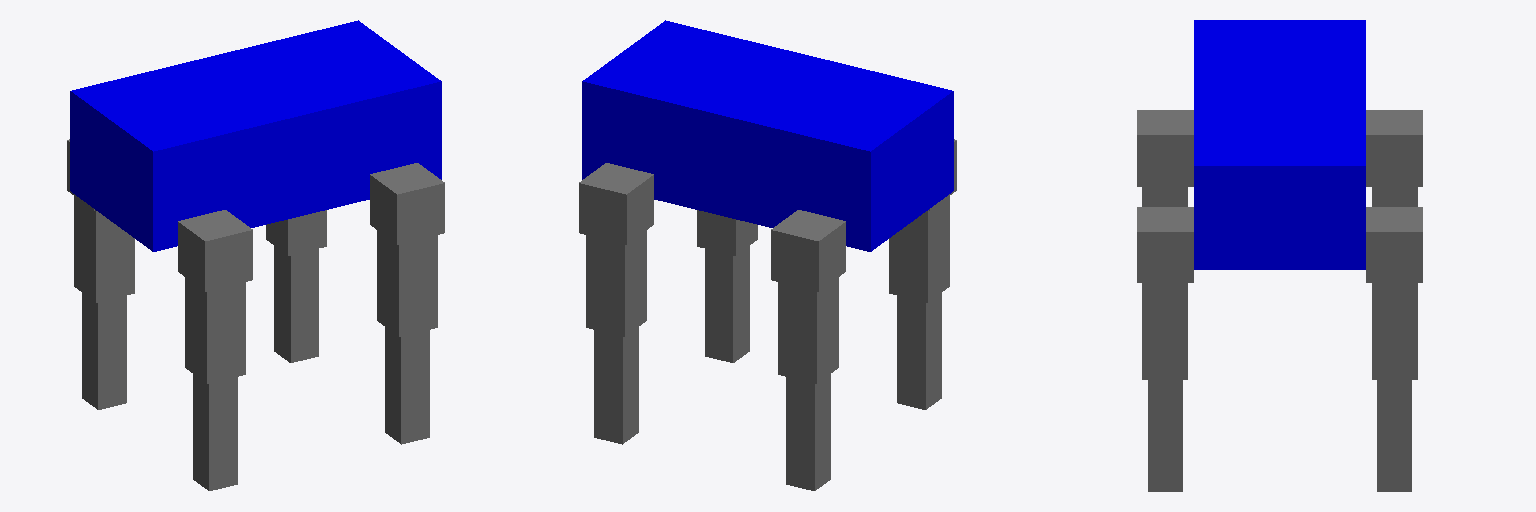
robot.urdf — quadbot:
<?xml version="1.0" ?>
<robot name="quadbot">
  
  <!-- ===== BASE BODY ===== -->
  <link name="base_link">
    <inertial>
      <mass value="2.0"/>
      <inertia ixx="0.01" ixy="0.0" ixz="0.0" iyy="0.01" iyz="0.0" izz="0.02"/>
    </inertial>
    <visual>
      <geometry>
        <box size="0.3 0.15 0.1"/>
      </geometry>
      <material name="blue">
        <color rgba="0 0 1 1"/>
      </material>
    </visual>
    <collision>
      <geometry>
        <box size="0.3 0.15 0.1"/>
      </geometry>
    </collision>
  </link>

  <!-- ===== FRONT LEFT LEG ===== -->
  
  <!-- Front Left Hip -->
  <link name="front_left_hip">
    <inertial>
      <mass value="0.1"/>
      <inertia ixx="0.0001" ixy="0.0" ixz="0.0" iyy="0.0001" iyz="0.0" izz="0.0001"/>
    </inertial>
    <visual>
      <geometry>
        <box size="0.05 0.05 0.05"/>
      </geometry>
      <material name="gray">
        <color rgba="0.5 0.5 0.5 1"/>
      </material>
    </visual>
    <collision>
      <geometry>
        <box size="0.05 0.05 0.05"/>
      </geometry>
    </collision>
  </link>

  <!-- Joint: Base to Front Left Hip (Hip Rotation) -->
  <joint name="front_left_hip_joint" type="revolute">
    <parent link="base_link"/>
    <child link="front_left_hip"/>
    <origin xyz="0.1 0.1 -0.05" rpy="0 0 0"/>
    <axis xyz="0 1 0"/>
    <limit lower="-1.57" upper="1.57" effort="10" velocity="5"/>
  </joint>

  <!-- Front Left Upper Leg -->
  <link name="front_left_upper_leg">
    <inertial>
      <mass value="0.2"/>
      <inertia ixx="0.0002" ixy="0.0" ixz="0.0" iyy="0.001" iyz="0.0" izz="0.0008"/>
    </inertial>
    <visual>
      <geometry>
        <box size="0.04 0.04 0.1"/>
      </geometry>
      <material name="gray">
        <color rgba="0.5 0.5 0.5 1"/>
      </material>
    </visual>
    <collision>
      <geometry>
        <box size="0.04 0.04 0.1"/>
      </geometry>
    </collision>
  </link>

  <!-- Joint: Hip to Upper Leg (Knee Rotation) -->
  <joint name="front_left_knee_joint" type="revolute">
    <parent link="front_left_hip"/>
    <child link="front_left_upper_leg"/>
    <origin xyz="0 0 -0.07" rpy="0 0 0"/>
    <axis xyz="1 0 0"/>
    <limit lower="-1.57" upper="1.57" effort="10" velocity="5"/>
  </joint>

  <!-- Front Left Lower Leg -->
  <link name="front_left_lower_leg">
    <inertial>
      <mass value="0.15"/>
      <inertia ixx="0.0001" ixy="0.0" ixz="0.0" iyy="0.0008" iyz="0.0" izz="0.0007"/>
    </inertial>
    <visual>
      <geometry>
        <box size="0.03 0.03 0.12"/>
      </geometry>
      <material name="gray">
        <color rgba="0.5 0.5 0.5 1"/>
      </material>
    </visual>
    <collision>
      <geometry>
        <box size="0.03 0.03 0.12"/>
      </geometry>
    </collision>
  </link>

  <!-- Joint: Upper Leg to Lower Leg (Ankle) -->
  <joint name="front_left_ankle_joint" type="revolute">
    <parent link="front_left_upper_leg"/>
    <child link="front_left_lower_leg"/>
    <origin xyz="0 0 -0.1" rpy="0 0 0"/>
    <axis xyz="1 0 0"/>
    <limit lower="-1.57" upper="1.57" effort="10" velocity="5"/>
  </joint>

  <!-- ===== FRONT RIGHT LEG ===== -->
  
  <link name="front_right_hip">
    <inertial>
      <mass value="0.1"/>
      <inertia ixx="0.0001" ixy="0.0" ixz="0.0" iyy="0.0001" iyz="0.0" izz="0.0001"/>
    </inertial>
    <visual>
      <geometry>
        <box size="0.05 0.05 0.05"/>
      </geometry>
      <material name="gray">
        <color rgba="0.5 0.5 0.5 1"/>
      </material>
    </visual>
    <collision>
      <geometry>
        <box size="0.05 0.05 0.05"/>
      </geometry>
    </collision>
  </link>

  <joint name="front_right_hip_joint" type="revolute">
    <parent link="base_link"/>
    <child link="front_right_hip"/>
    <origin xyz="0.1 -0.1 -0.05" rpy="0 0 0"/>
    <axis xyz="0 1 0"/>
    <limit lower="-1.57" upper="1.57" effort="10" velocity="5"/>
  </joint>

  <link name="front_right_upper_leg">
    <inertial>
      <mass value="0.2"/>
      <inertia ixx="0.0002" ixy="0.0" ixz="0.0" iyy="0.001" iyz="0.0" izz="0.0008"/>
    </inertial>
    <visual>
      <geometry>
        <box size="0.04 0.04 0.1"/>
      </geometry>
      <material name="gray">
        <color rgba="0.5 0.5 0.5 1"/>
      </material>
    </visual>
    <collision>
      <geometry>
        <box size="0.04 0.04 0.1"/>
      </geometry>
    </collision>
  </link>

  <joint name="front_right_knee_joint" type="revolute">
    <parent link="front_right_hip"/>
    <child link="front_right_upper_leg"/>
    <origin xyz="0 0 -0.07" rpy="0 0 0"/>
    <axis xyz="1 0 0"/>
    <limit lower="-1.57" upper="1.57" effort="10" velocity="5"/>
  </joint>

  <link name="front_right_lower_leg">
    <inertial>
      <mass value="0.15"/>
      <inertia ixx="0.0001" ixy="0.0" ixz="0.0" iyy="0.0008" iyz="0.0" izz="0.0007"/>
    </inertial>
    <visual>
      <geometry>
        <box size="0.03 0.03 0.12"/>
      </geometry>
      <material name="gray">
        <color rgba="0.5 0.5 0.5 1"/>
      </material>
    </visual>
    <collision>
      <geometry>
        <box size="0.03 0.03 0.12"/>
      </geometry>
    </collision>
  </link>

  <joint name="front_right_ankle_joint" type="revolute">
    <parent link="front_right_upper_leg"/>
    <child link="front_right_lower_leg"/>
    <origin xyz="0 0 -0.1" rpy="0 0 0"/>
    <axis xyz="1 0 0"/>
    <limit lower="-1.57" upper="1.57" effort="10" velocity="5"/>
  </joint>

  <!-- ===== REAR LEFT LEG ===== -->
  
  <link name="rear_left_hip">
    <inertial>
      <mass value="0.1"/>
      <inertia ixx="0.0001" ixy="0.0" ixz="0.0" iyy="0.0001" iyz="0.0" izz="0.0001"/>
    </inertial>
    <visual>
      <geometry>
        <box size="0.05 0.05 0.05"/>
      </geometry>
      <material name="gray">
        <color rgba="0.5 0.5 0.5 1"/>
      </material>
    </visual>
    <collision>
      <geometry>
        <box size="0.05 0.05 0.05"/>
      </geometry>
    </collision>
  </link>

  <joint name="rear_left_hip_joint" type="revolute">
    <parent link="base_link"/>
    <child link="rear_left_hip"/>
    <origin xyz="-0.1 0.1 -0.05" rpy="0 0 0"/>
    <axis xyz="0 1 0"/>
    <limit lower="-1.57" upper="1.57" effort="10" velocity="5"/>
  </joint>

  <link name="rear_left_upper_leg">
    <inertial>
      <mass value="0.2"/>
      <inertia ixx="0.0002" ixy="0.0" ixz="0.0" iyy="0.001" iyz="0.0" izz="0.0008"/>
    </inertial>
    <visual>
      <geometry>
        <box size="0.04 0.04 0.1"/>
      </geometry>
      <material name="gray">
        <color rgba="0.5 0.5 0.5 1"/>
      </material>
    </visual>
    <collision>
      <geometry>
        <box size="0.04 0.04 0.1"/>
      </geometry>
    </collision>
  </link>

  <joint name="rear_left_knee_joint" type="revolute">
    <parent link="rear_left_hip"/>
    <child link="rear_left_upper_leg"/>
    <origin xyz="0 0 -0.07" rpy="0 0 0"/>
    <axis xyz="1 0 0"/>
    <limit lower="-1.57" upper="1.57" effort="10" velocity="5"/>
  </joint>

  <link name="rear_left_lower_leg">
    <inertial>
      <mass value="0.15"/>
      <inertia ixx="0.0001" ixy="0.0" ixz="0.0" iyy="0.0008" iyz="0.0" izz="0.0007"/>
    </inertial>
    <visual>
      <geometry>
        <box size="0.03 0.03 0.12"/>
      </geometry>
      <material name="gray">
        <color rgba="0.5 0.5 0.5 1"/>
      </material>
    </visual>
    <collision>
      <geometry>
        <box size="0.03 0.03 0.12"/>
      </geometry>
    </collision>
  </link>

  <joint name="rear_left_ankle_joint" type="revolute">
    <parent link="rear_left_upper_leg"/>
    <child link="rear_left_lower_leg"/>
    <origin xyz="0 0 -0.1" rpy="0 0 0"/>
    <axis xyz="1 0 0"/>
    <limit lower="-1.57" upper="1.57" effort="10" velocity="5"/>
  </joint>

  <!-- ===== REAR RIGHT LEG ===== -->
  
  <link name="rear_right_hip">
    <inertial>
      <mass value="0.1"/>
      <inertia ixx="0.0001" ixy="0.0" ixz="0.0" iyy="0.0001" iyz="0.0" izz="0.0001"/>
    </inertial>
    <visual>
      <geometry>
        <box size="0.05 0.05 0.05"/>
      </geometry>
      <material name="gray">
        <color rgba="0.5 0.5 0.5 1"/>
      </material>
    </visual>
    <collision>
      <geometry>
        <box size="0.05 0.05 0.05"/>
      </geometry>
    </collision>
  </link>

  <joint name="rear_right_hip_joint" type="revolute">
    <parent link="base_link"/>
    <child link="rear_right_hip"/>
    <origin xyz="-0.1 -0.1 -0.05" rpy="0 0 0"/>
    <axis xyz="0 1 0"/>
    <limit lower="-1.57" upper="1.57" effort="10" velocity="5"/>
  </joint>

  <link name="rear_right_upper_leg">
    <inertial>
      <mass value="0.2"/>
      <inertia ixx="0.0002" ixy="0.0" ixz="0.0" iyy="0.001" iyz="0.0" izz="0.0008"/>
    </inertial>
    <visual>
      <geometry>
        <box size="0.04 0.04 0.1"/>
      </geometry>
      <material name="gray">
        <color rgba="0.5 0.5 0.5 1"/>
      </material>
    </visual>
    <collision>
      <geometry>
        <box size="0.04 0.04 0.1"/>
      </geometry>
    </collision>
  </link>

  <joint name="rear_right_knee_joint" type="revolute">
    <parent link="rear_right_hip"/>
    <child link="rear_right_upper_leg"/>
    <origin xyz="0 0 -0.07" rpy="0 0 0"/>
    <axis xyz="1 0 0"/>
    <limit lower="-1.57" upper="1.57" effort="10" velocity="5"/>
  </joint>

  <link name="rear_right_lower_leg">
    <inertial>
      <mass value="0.15"/>
      <inertia ixx="0.0001" ixy="0.0" ixz="0.0" iyy="0.0008" iyz="0.0" izz="0.0007"/>
    </inertial>
    <visual>
      <geometry>
        <box size="0.03 0.03 0.12"/>
      </geometry>
      <material name="gray">
        <color rgba="0.5 0.5 0.5 1"/>
      </material>
    </visual>
    <collision>
      <geometry>
        <box size="0.03 0.03 0.12"/>
      </geometry>
    </collision>
  </link>

  <joint name="rear_right_ankle_joint" type="revolute">
    <parent link="rear_right_upper_leg"/>
    <child link="rear_right_lower_leg"/>
    <origin xyz="0 0 -0.1" rpy="0 0 0"/>
    <axis xyz="1 0 0"/>
    <limit lower="-1.57" upper="1.57" effort="10" velocity="5"/>
  </joint>

</robot>

--- What the picture shows (computed from the rendered views, not written in the file) ---
Views: 3 orthographic renders of the robot side by side, from view 1: azimuth 30°, elevation 25°; view 2: azimuth 150°, elevation 25°; view 3: azimuth 270°, elevation 25°.
Robot: quadbot — 13 links, 12 joints (12 revolute); root link base_link; default pose: every joint at zero.
Links seen in each view (by area): view 1: base_link, rear_right_upper_leg, front_right_upper_leg, front_right_hip, rear_right_hip, rear_left_upper_leg, rear_right_lower_leg, front_left_lower_leg, rear_left_lower_leg, front_right_lower_leg, front_left_upper_leg; view 2: base_link, rear_left_upper_leg, front_left_upper_leg, front_left_hip, rear_left_hip, rear_right_upper_leg, rear_left_lower_leg, front_right_lower_leg, rear_right_lower_leg, front_left_lower_leg, front_right_upper_leg; view 3: base_link, front_left_upper_leg, front_right_upper_leg, rear_left_hip, rear_right_hip, front_left_hip, front_right_hip, front_left_lower_leg, front_right_lower_leg, rear_left_upper_leg, rear_right_upper_leg.
Boxes of the visible links, bbox=[...] form: base_link: bbox=[70, 20, 441, 251]; rear_right_upper_leg: bbox=[185, 277, 245, 383]; front_right_upper_leg: bbox=[377, 230, 437, 336]; front_right_hip: bbox=[370, 163, 444, 244]; rear_right_hip: bbox=[178, 210, 252, 291]; rear_left_upper_leg: bbox=[74, 196, 134, 302]; rear_right_lower_leg: bbox=[193, 374, 237, 490]; front_left_lower_leg: bbox=[274, 246, 318, 362]; rear_left_lower_leg: bbox=[82, 293, 126, 409]; front_right_lower_leg: bbox=[385, 327, 429, 444]; front_left_upper_leg: bbox=[266, 210, 326, 255]; base_link: bbox=[582, 20, 953, 251]; rear_left_upper_leg: bbox=[778, 277, 838, 383]; front_left_upper_leg: bbox=[586, 230, 646, 336]; front_left_hip: bbox=[579, 163, 653, 244]; rear_left_hip: bbox=[771, 210, 845, 291]; rear_right_upper_leg: bbox=[889, 196, 949, 302]; rear_left_lower_leg: bbox=[786, 374, 830, 490]; front_right_lower_leg: bbox=[705, 246, 749, 362]; rear_right_lower_leg: bbox=[897, 293, 941, 409]; front_left_lower_leg: bbox=[594, 327, 638, 444]; front_right_upper_leg: bbox=[697, 210, 757, 255]; base_link: bbox=[1194, 20, 1365, 269]; front_left_upper_leg: bbox=[1372, 283, 1417, 379]; front_right_upper_leg: bbox=[1142, 283, 1187, 379]; rear_left_hip: bbox=[1366, 110, 1422, 186]; rear_right_hip: bbox=[1137, 110, 1193, 186]; front_left_hip: bbox=[1366, 207, 1422, 282]; front_right_hip: bbox=[1137, 207, 1193, 282]; front_left_lower_leg: bbox=[1377, 380, 1411, 491]; front_right_lower_leg: bbox=[1148, 380, 1182, 491]; rear_left_upper_leg: bbox=[1372, 187, 1417, 206]; rear_right_upper_leg: bbox=[1142, 187, 1187, 206].
Bounding box of the posed robot: 0.3 × 0.25 × 0.33 m (x, y, z).
Geometry: primitives only (box / cylinder / sphere), no mesh files.
